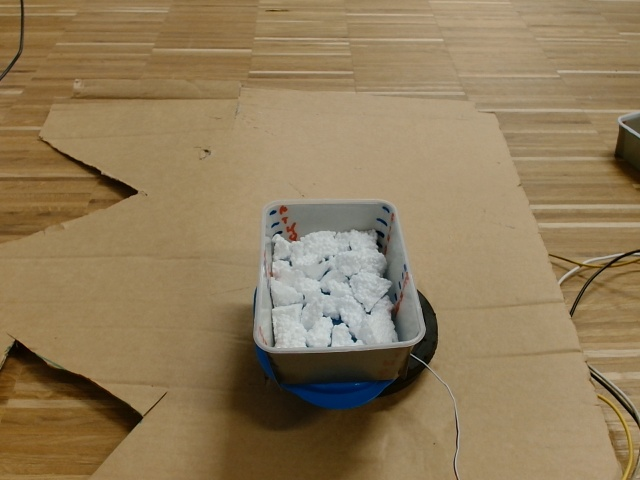Small_quarter: (254, 195, 428, 357)
